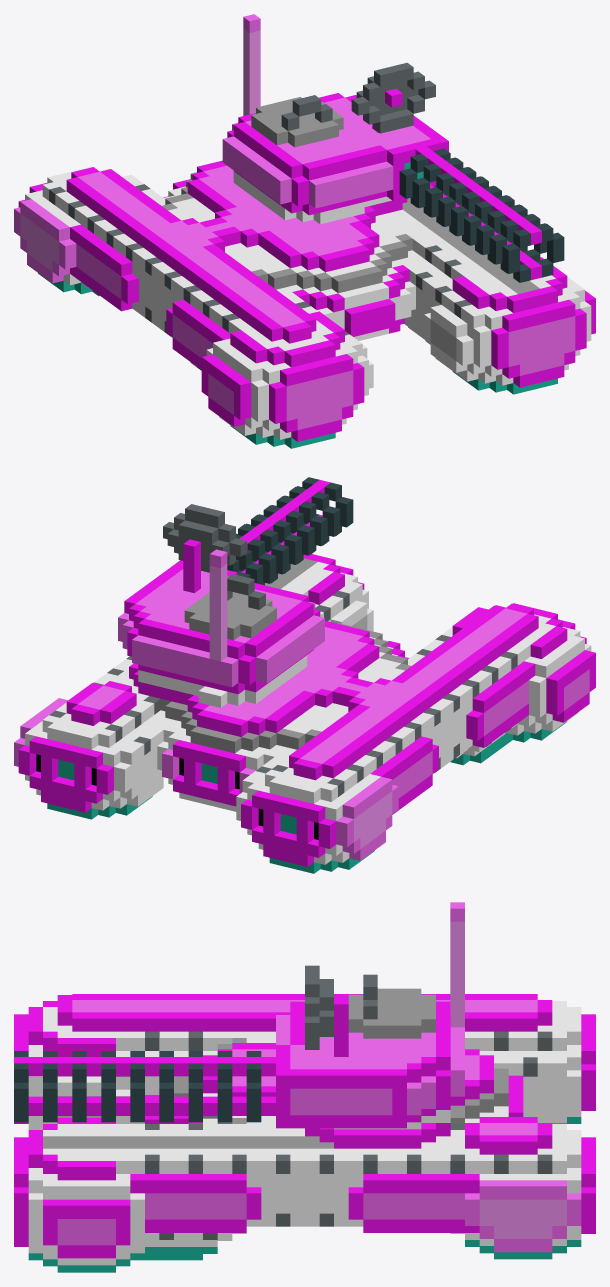
File: tank.obj
The picture shows the model from 3 angles, top to bottom: view 1: azimuth 30°, elevation 25°; view 2: azimuth 150°, elevation 25°; view 3: azimuth 270°, elevation 25°; orthographic projection. The views are drawn at different scales.
Size of the model in its own units: 3.2 by 2.2 by 4.
Materials: 1 (1 with a texture image).
